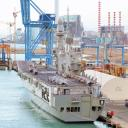Portanaves: (17, 15, 107, 125)
